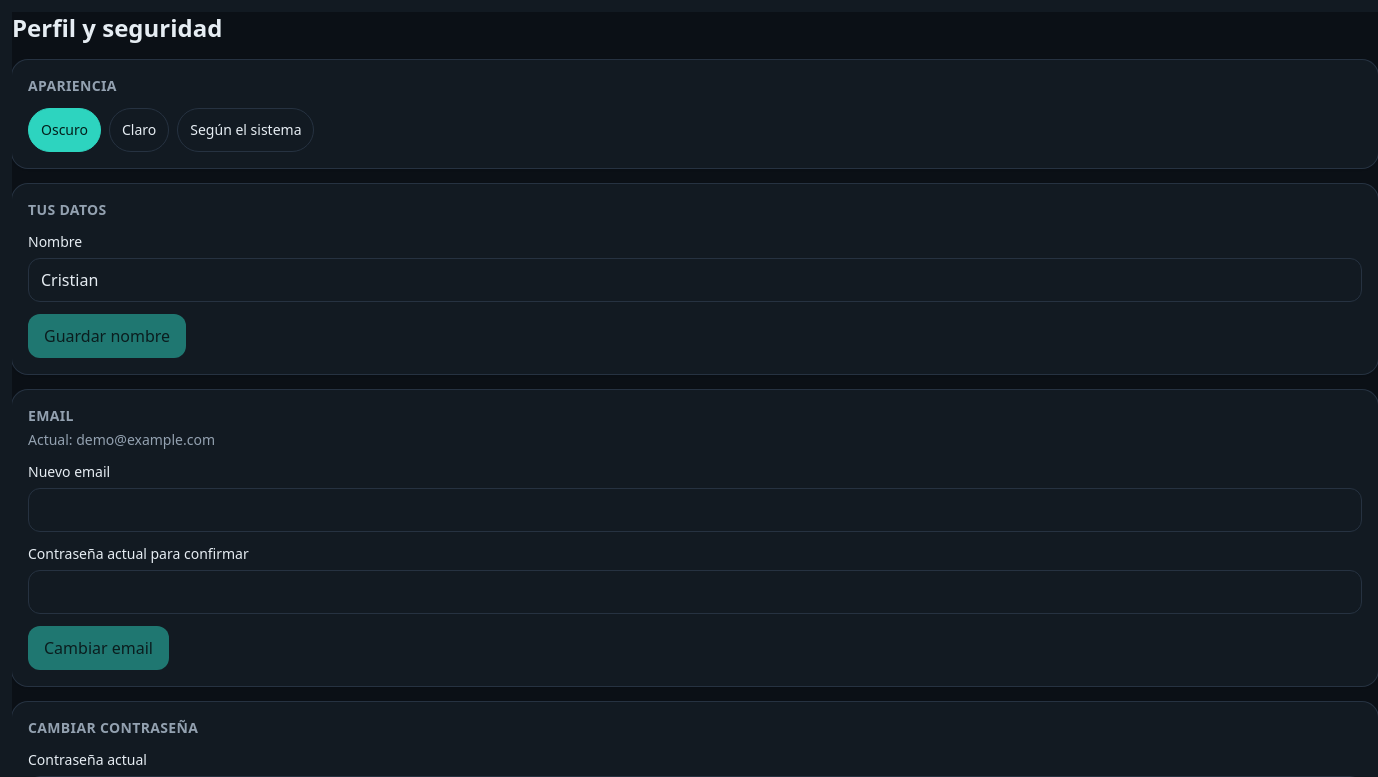
ProfilePage — appearance › goes back to the previous theme and warns when saving fails
Click the radio button labelled "Claro".
click(139, 130)  # box [109, 108, 169, 152]
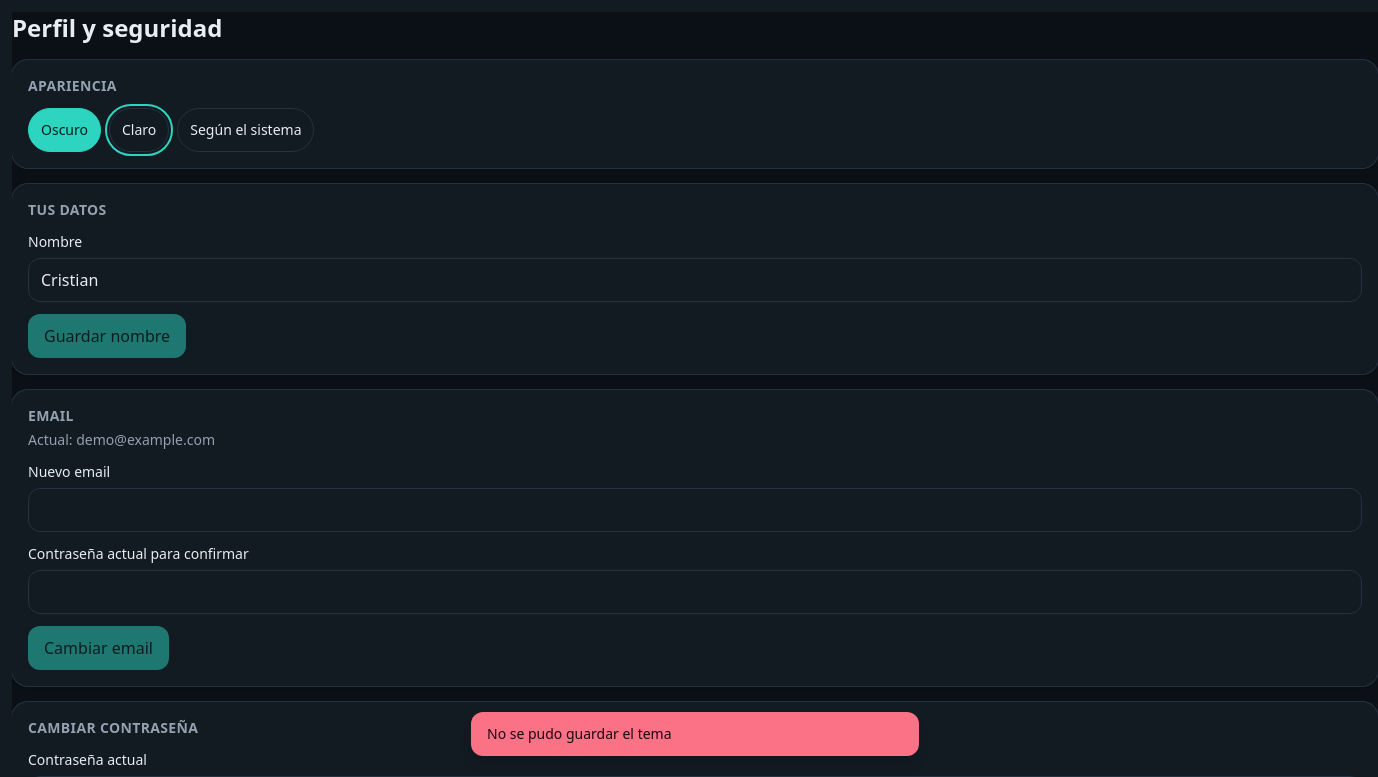
Now the text "No se pudo guardar el tema" is shown, box [471, 712, 919, 756]
